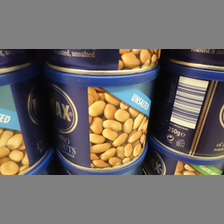nuts: (41, 64, 162, 170)
